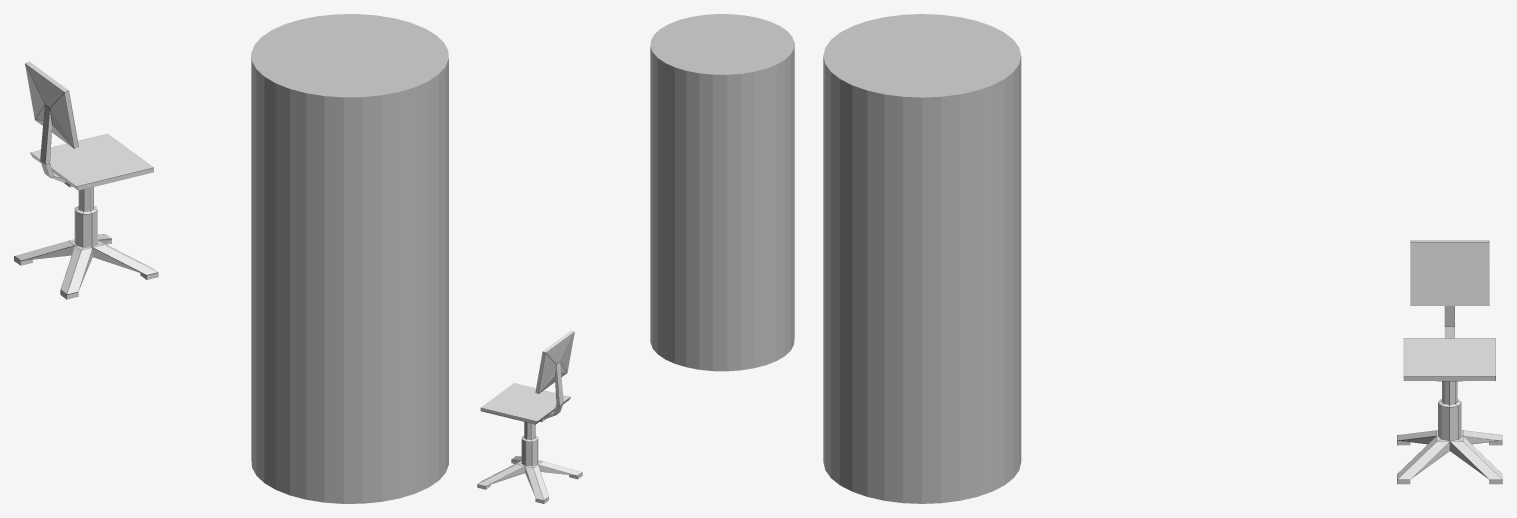
The model's file is Chair.obj.
The picture shows the model from 3 angles, left to right: view 1: azimuth 30°, elevation 25°; view 2: azimuth 150°, elevation 25°; view 3: azimuth 270°, elevation 25°; orthographic projection. The views are drawn at different scales.
Visible parts, largest first — view 1: Cylinder_Cylinder.001, Cube.003_Cube.007; view 2: Cylinder_Cylinder.001, Cube.003_Cube.007; view 3: Cylinder_Cylinder.001, Cube.003_Cube.007.
Boxes of the visible parts, x1=… form: Cylinder_Cylinder.001: x1=251, y1=14, x2=448, y2=503; Cube.003_Cube.007: x1=14, y1=61, x2=158, y2=299; Cylinder_Cylinder.001: x1=650, y1=14, x2=794, y2=371; Cube.003_Cube.007: x1=477, y1=330, x2=582, y2=503; Cylinder_Cylinder.001: x1=823, y1=14, x2=1021, y2=503; Cube.003_Cube.007: x1=1397, y1=240, x2=1502, y2=484.
Bounding box in the file's own units: 0.75 × 1.7 × 2.58.
2 materials, 1 textured.
